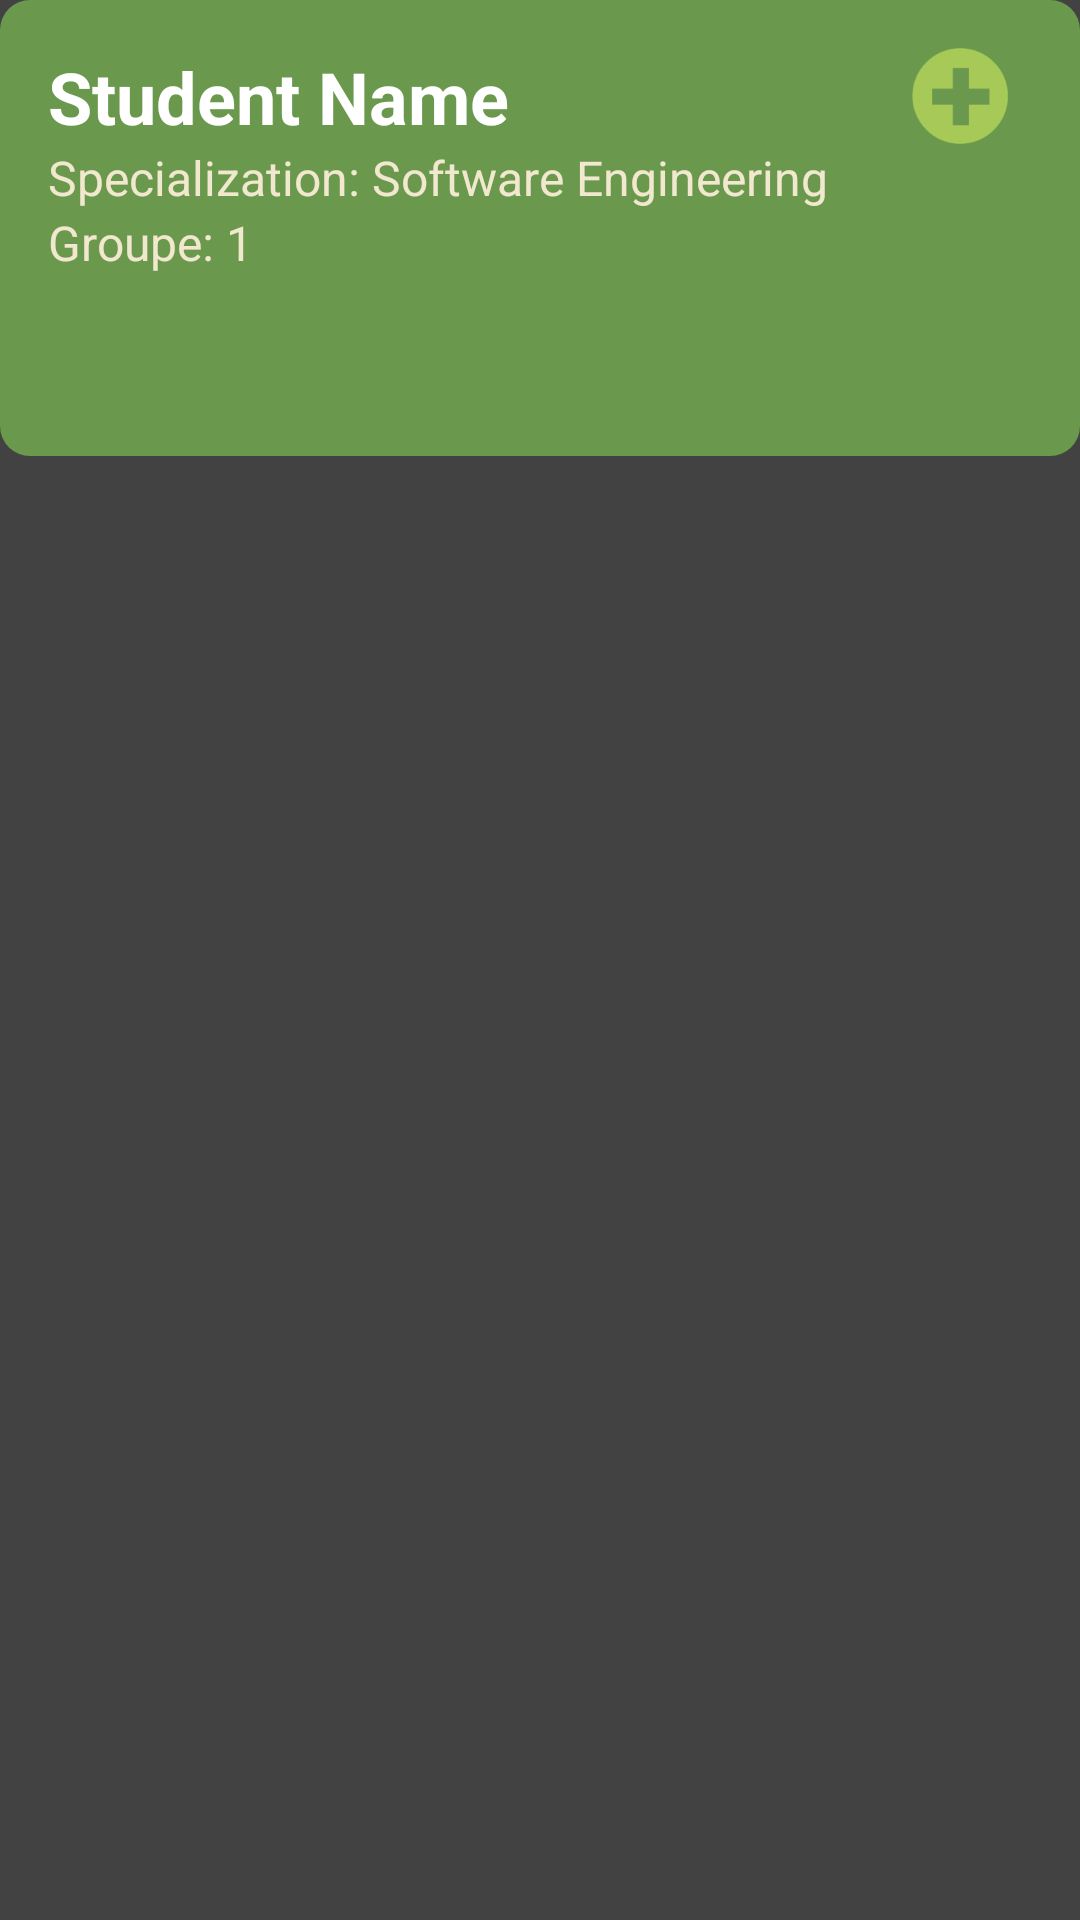

Icons on this 1080×1920 Android screen, each with the point to tap as point (x, y):
plus: point (960, 96)
